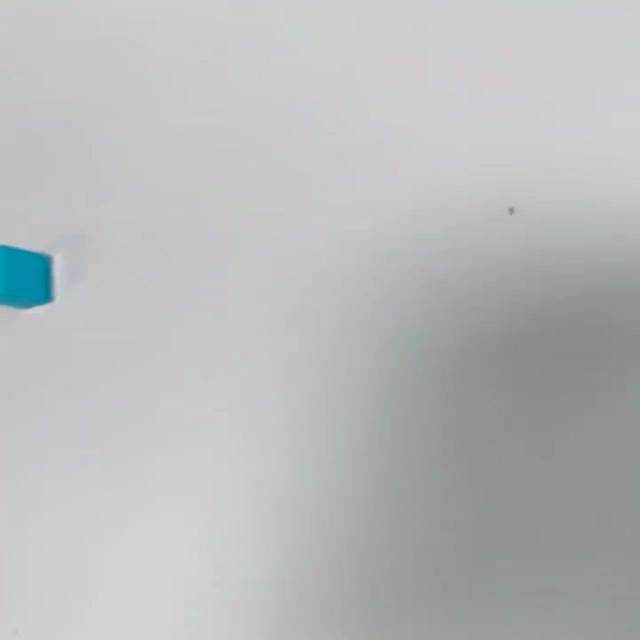C2x1x1: (0, 243, 56, 310)
